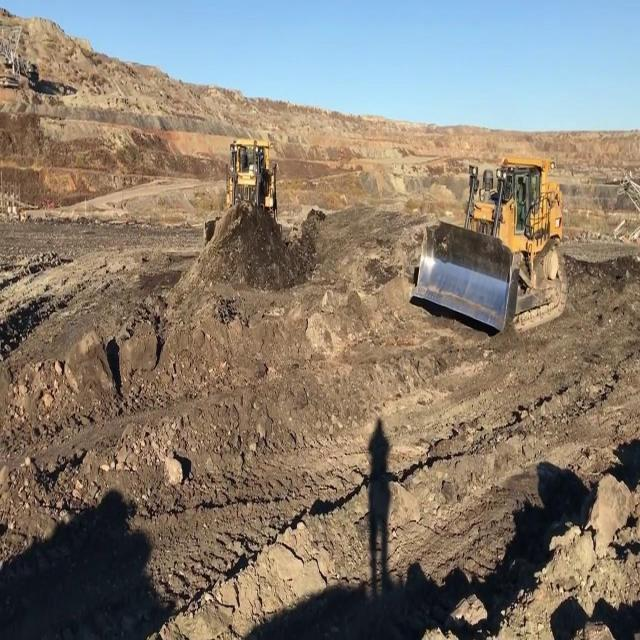buldozerpayloadergrader: (409, 156, 569, 334), (204, 136, 282, 251)
